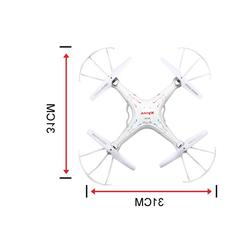drone: (78, 46, 218, 185)
